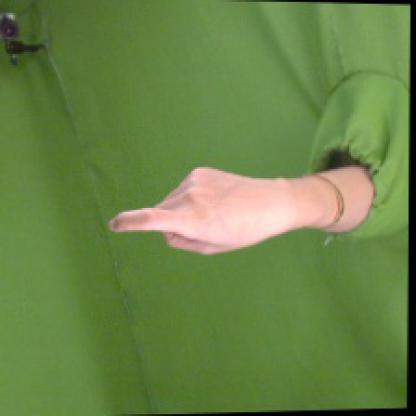Hand: (107, 168, 303, 255)
